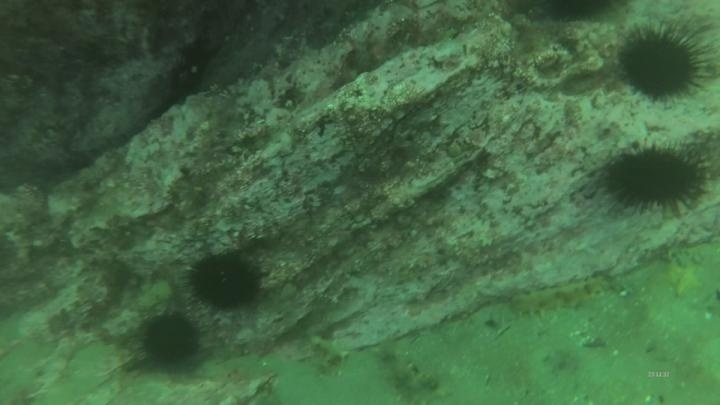echinus: (596, 138, 713, 219), (614, 19, 714, 105), (183, 247, 268, 315), (131, 307, 207, 375), (536, 1, 627, 27)
holothurian: (508, 272, 615, 321), (374, 337, 450, 404), (186, 105, 229, 178)
